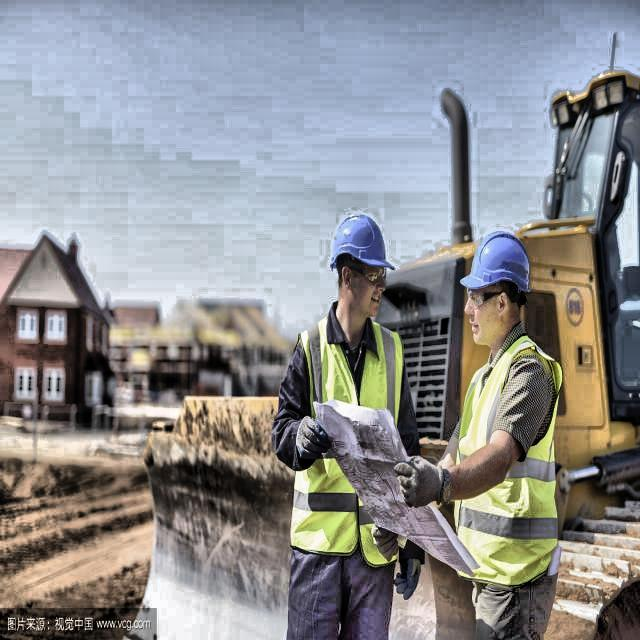person: (267, 195, 429, 640), (429, 231, 571, 640)
